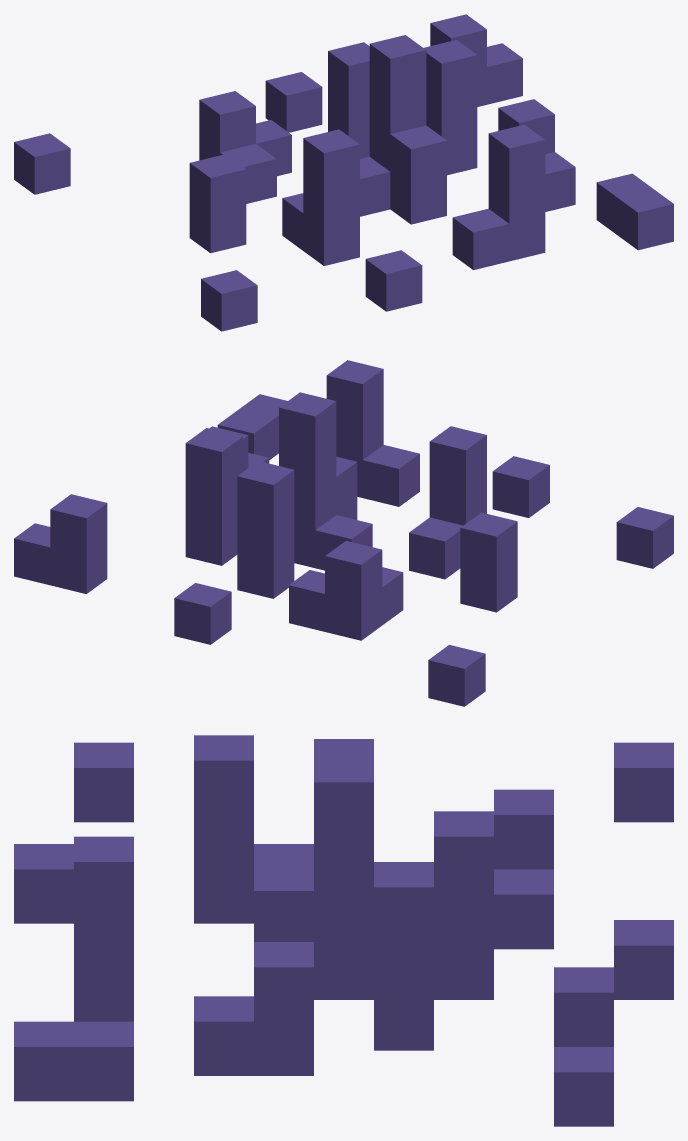
Rendered from LunaGrass2.obj.
3 views of the same model, one above another, from view 1: azimuth 30°, elevation 25°; view 2: azimuth 150°, elevation 25°; view 3: azimuth 270°, elevation 25° (orthographic). The views are drawn at different scales.
Parts seen in each view (by area): view 1: LunaGrass2; view 2: LunaGrass2; view 3: LunaGrass2.
Part boxes in pixels (box(x1,y1,x2,y2)): LunaGrass2: box(14, 14, 673, 331); LunaGrass2: box(14, 360, 673, 706); LunaGrass2: box(14, 735, 673, 1126).
Bounding box in the file's own units: 13 × 4 × 11.
Materials: 1 (1 with a texture image).
